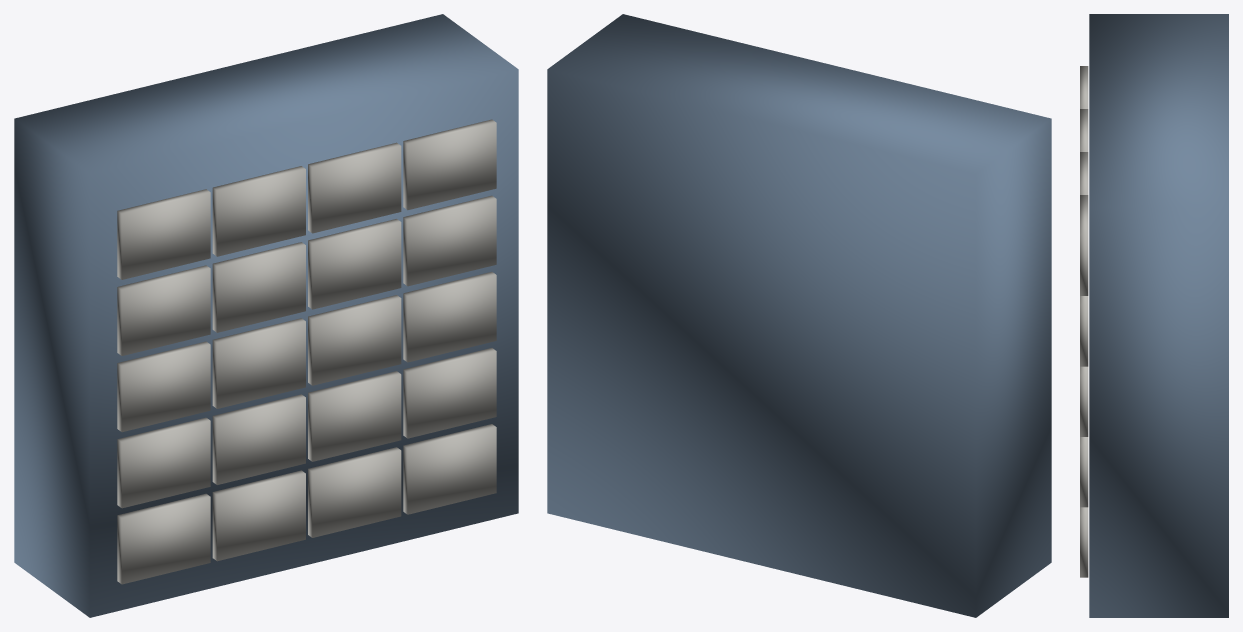
File: parcel_locker__squat.glb
3 views of the same model, side by side, from view 1: azimuth 30°, elevation 25°; view 2: azimuth 150°, elevation 25°; view 3: azimuth 270°, elevation 25° (orthographic). The views are drawn at different scales.
Visible parts, largest first — view 1: world; view 2: world; view 3: world.
Boxes of the visible parts, bbox=[...] form: world: bbox=[14, 14, 518, 617]; world: bbox=[547, 14, 1051, 617]; world: bbox=[1080, 14, 1228, 617].
Size of the model in its own units: 1.49 by 1.47 by 0.4833.
